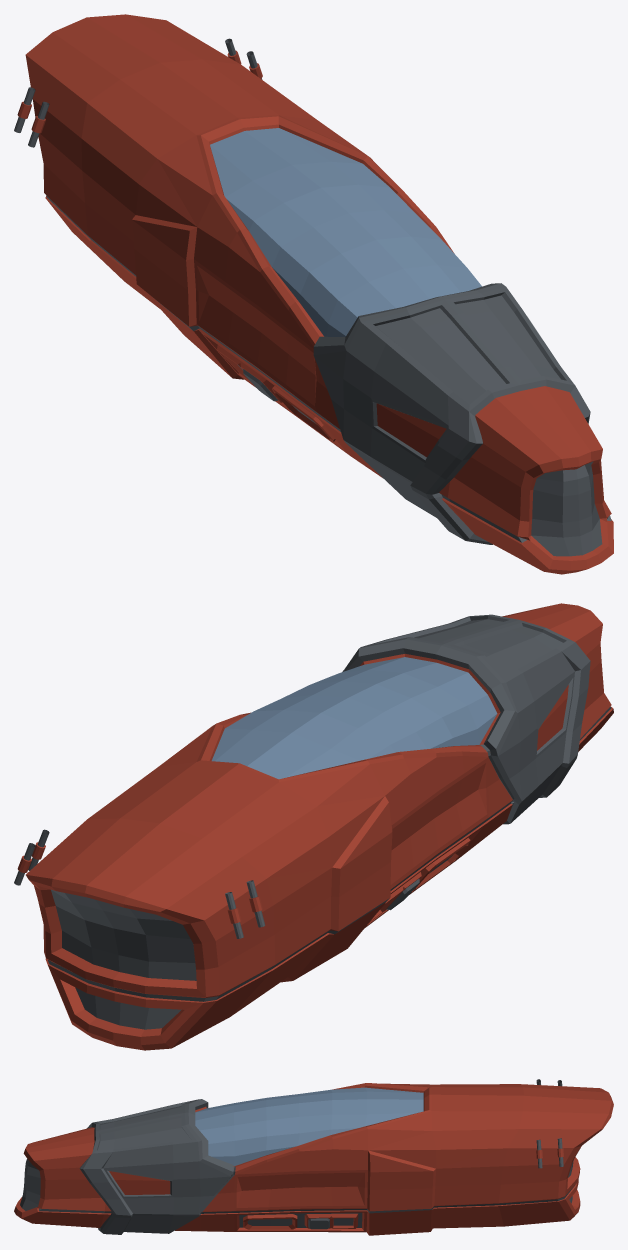
The model's file is Fighter_06_Neutral_Red.fbx.
3 views of the same model, one above another, from view 1: azimuth 30°, elevation 25°; view 2: azimuth 150°, elevation 25°; view 3: azimuth 270°, elevation 25° (orthographic). The views are drawn at different scales.
Visible parts, largest first — view 1: Fighter_06_Neutral_Red; view 2: Fighter_06_Neutral_Red; view 3: Fighter_06_Neutral_Red.
Boxes of the visible parts, x1,y1,x2,y2 form: Fighter_06_Neutral_Red: [14, 14, 613, 574]; Fighter_06_Neutral_Red: [14, 603, 613, 1050]; Fighter_06_Neutral_Red: [14, 1079, 613, 1235].
Bounding box in the file's own units: 351 × 315 × 1291.
Materials: 3 (3 with a texture image).
